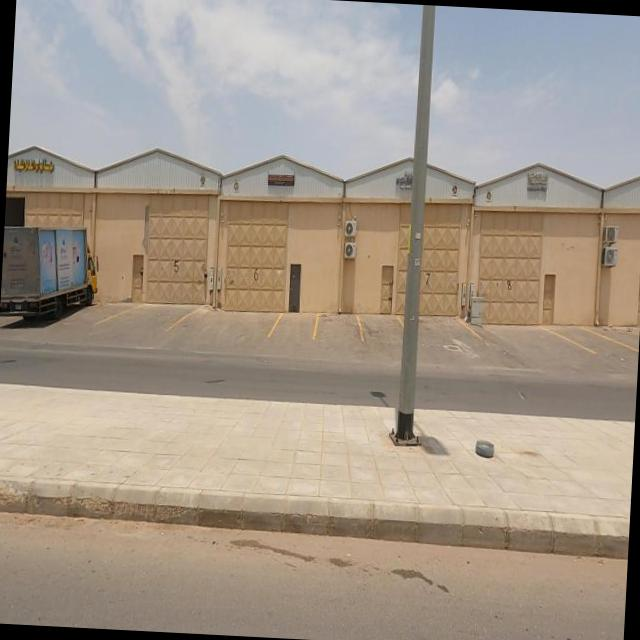debris: (453, 418, 517, 482)
